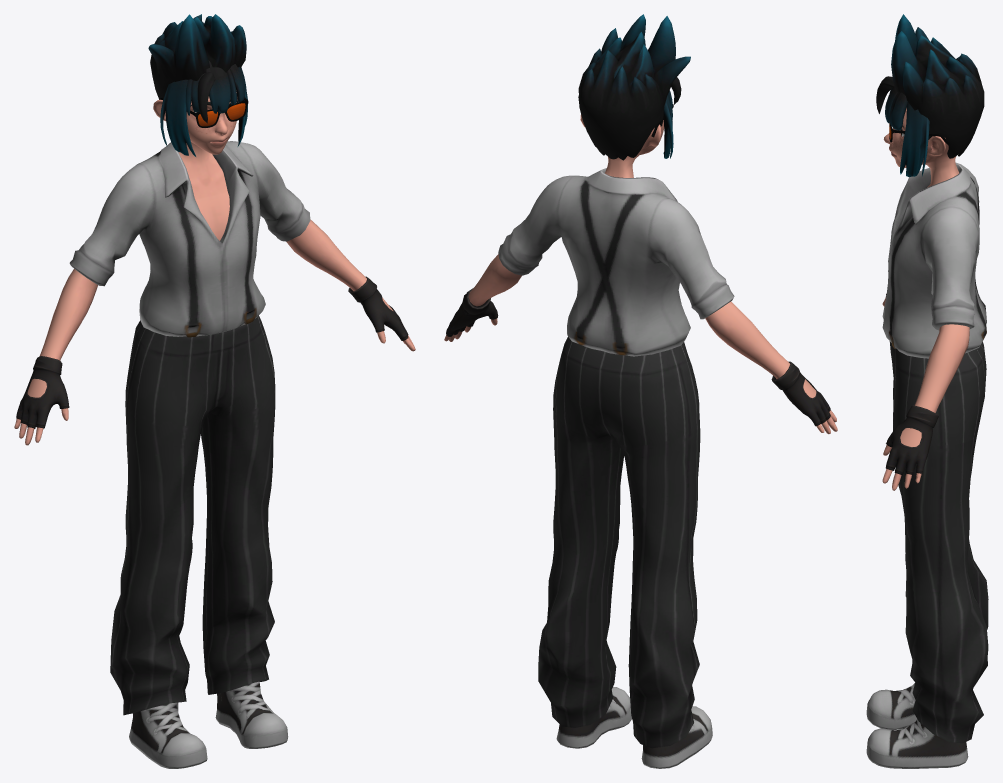
The model's file is StaffLui_Mesh.obj.
The picture shows the model from 3 angles, left to right: view 1: azimuth 30°, elevation 25°; view 2: azimuth 150°, elevation 25°; view 3: azimuth 270°, elevation 25°; orthographic projection. The views are drawn at different scales.
Parts seen in each view (by area): view 1: StaffLui_Mesh_0; view 2: StaffLui_Mesh_0; view 3: StaffLui_Mesh_0.
Boxes of the visible parts, x1,y1,x2,y2 form: StaffLui_Mesh_0: (14, 14, 415, 768); StaffLui_Mesh_0: (444, 14, 837, 768); StaffLui_Mesh_0: (866, 14, 988, 768).
Size of the model in its own units: 1.06 by 1.92 by 0.2966.
Materials: 1 (1 with a texture image).
